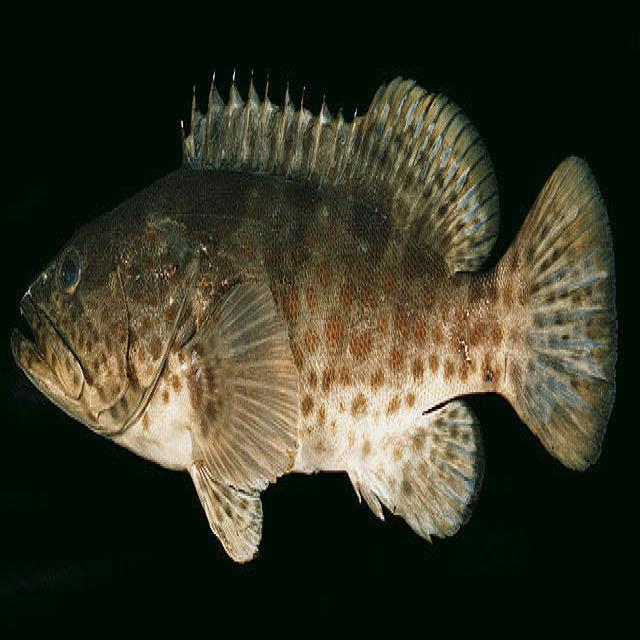ikan: (11, 54, 630, 584)
